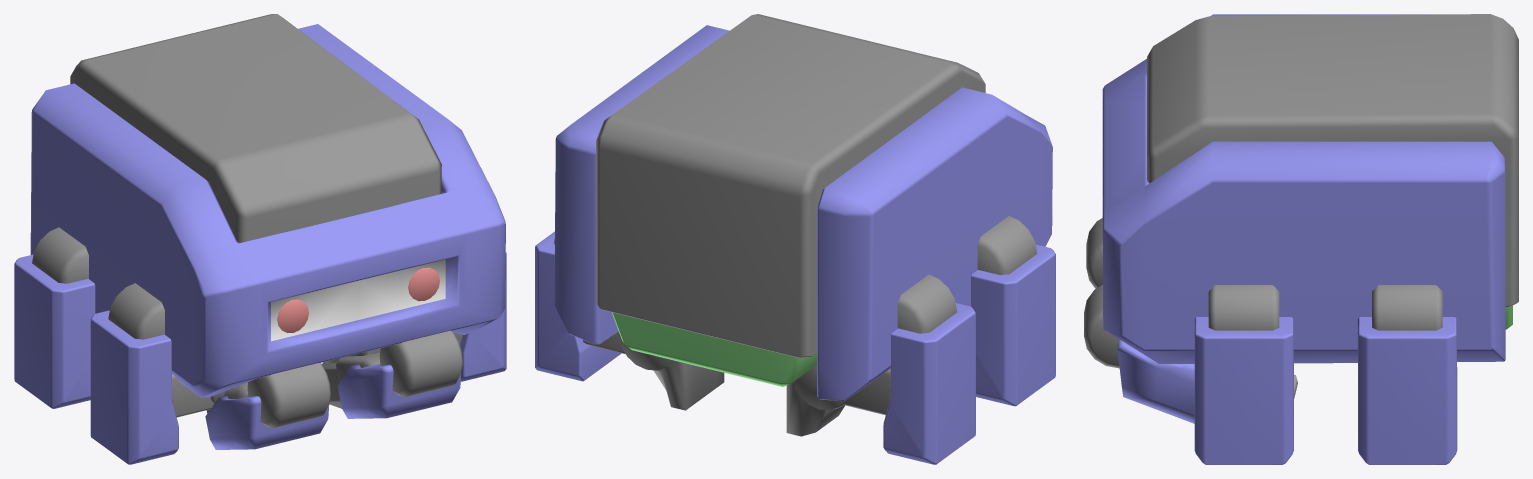
File: PortalPortable_Miner_Folded.gltf
3 views of the same model, side by side, from view 1: azimuth 30°, elevation 25°; view 2: azimuth 150°, elevation 25°; view 3: azimuth 270°, elevation 25° (orthographic). The views are drawn at different scales.
Visible parts, largest first — view 1: Portable_Miner_Folded; view 2: Portable_Miner_Folded; view 3: Portable_Miner_Folded.
Boxes of the visible parts, x1,y1,x2,y2 form: Portable_Miner_Folded: (14,14,506,464); Portable_Miner_Folded: (535,14,1055,464); Portable_Miner_Folded: (1084,14,1518,464).
Bounding box in the file's own units: 0.4922 × 0.3878 × 0.4537.
